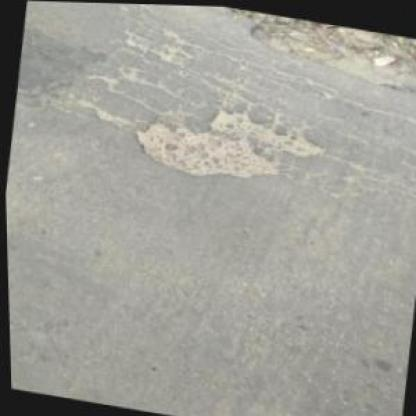pothole: (128, 90, 333, 197)
